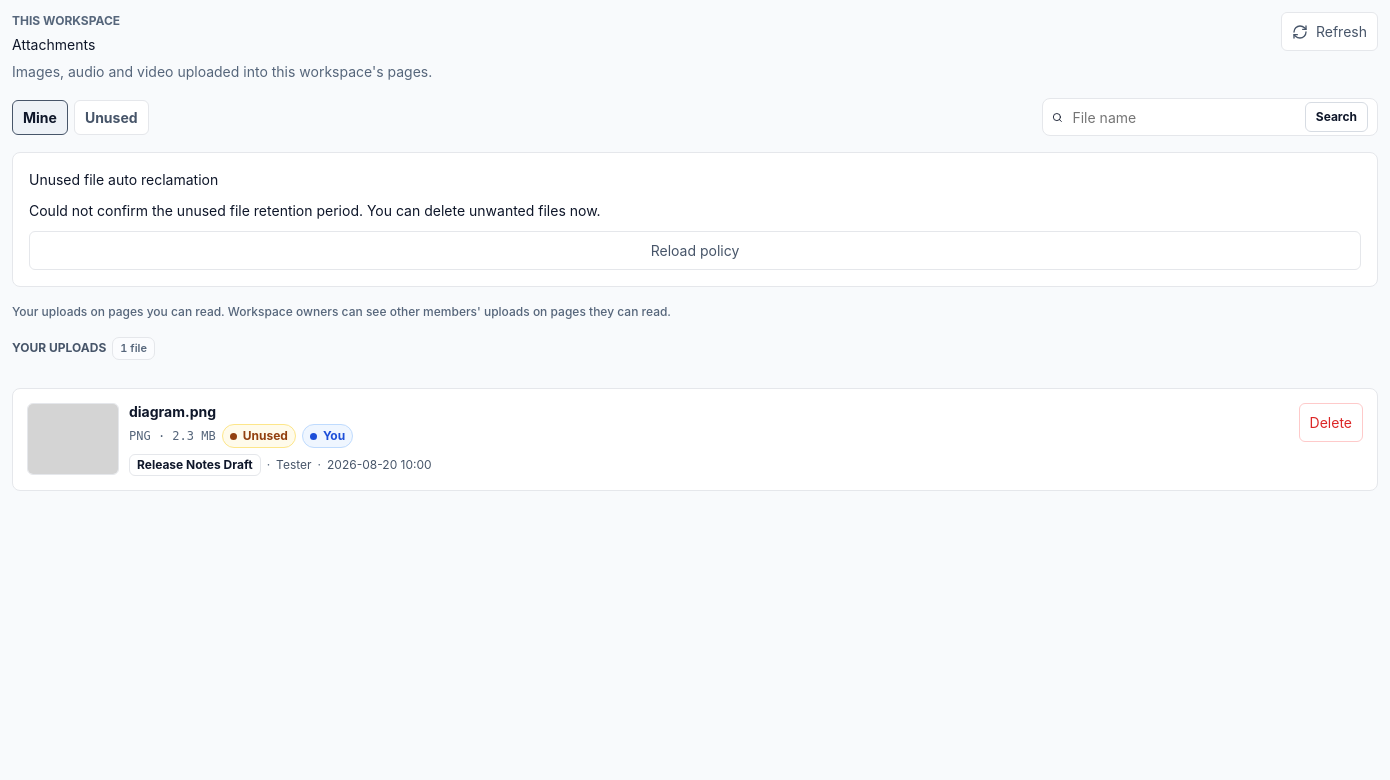
Test: AttachmentsSection › closes a stale confirmation when the list is refreshed
Expected: the text "diagram.png" is shown, [129,402,216,420]
Click the button "Delete". click: click(1331, 422)
box: [1299,402,1363,442]
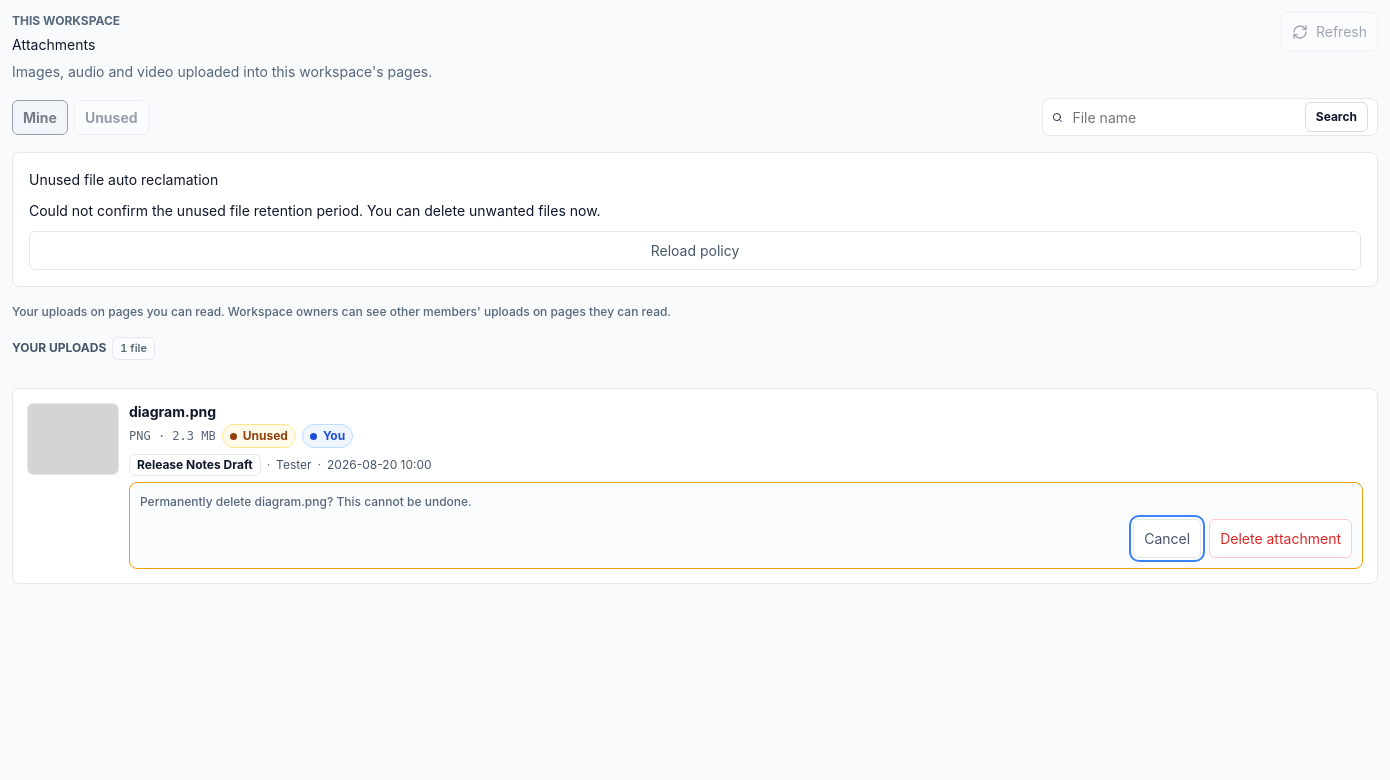
Click the button "Delete attachment". click: click(1281, 539)
box: [1209,519,1352,558]
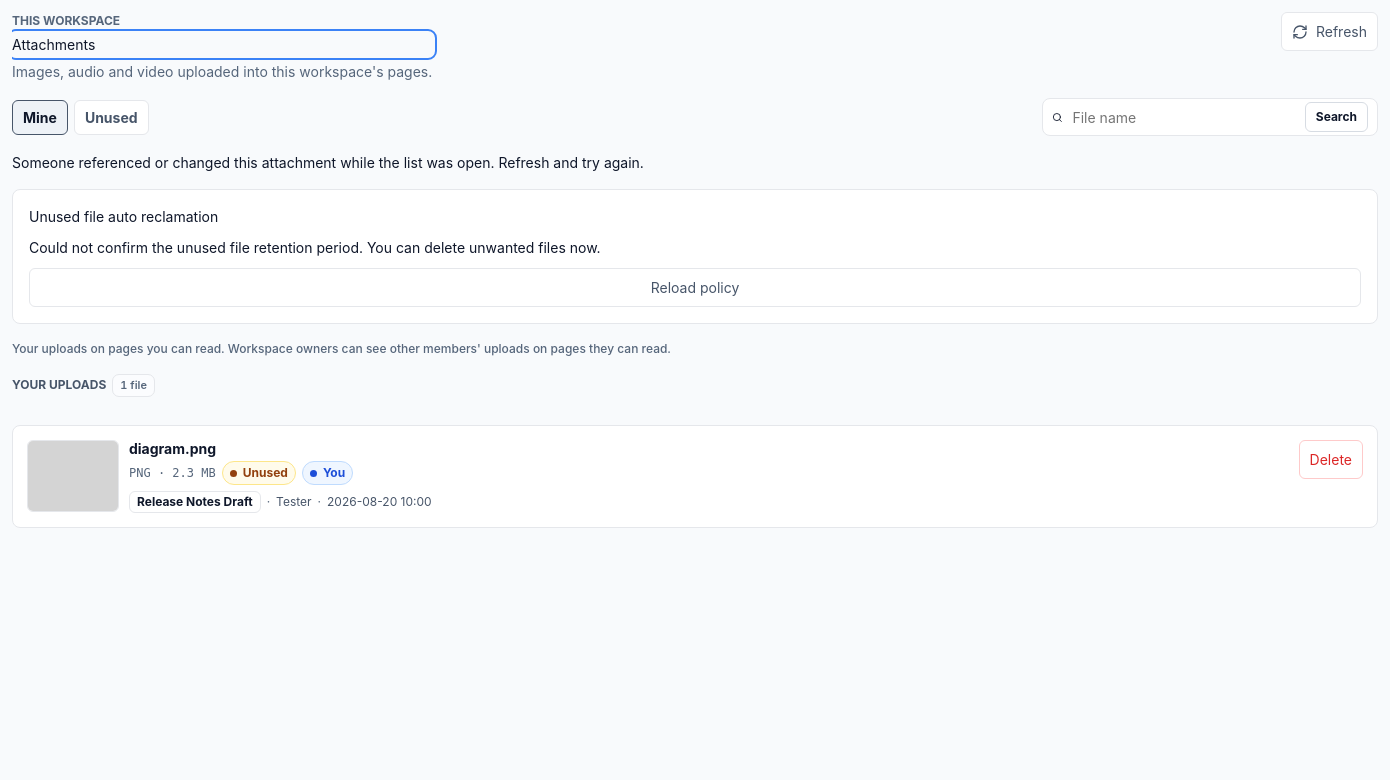
Now the text "Refresh and try again" is shown, box [12,154,644,171]
Click the button "Refresh". click: click(1330, 32)
box: [1281,12,1378,51]
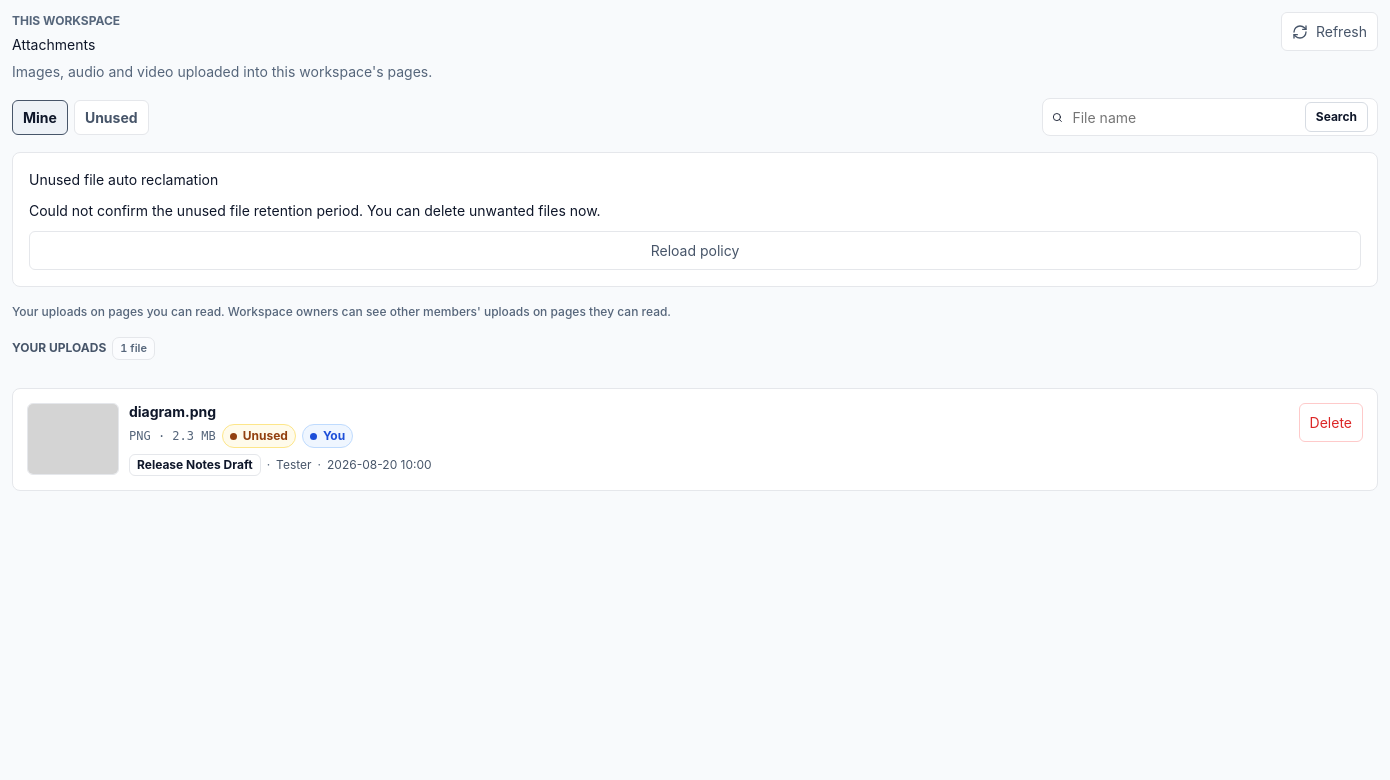
Expected: the button "Delete attachment" is not shown
Now the text "Refresh and try again" is gone
